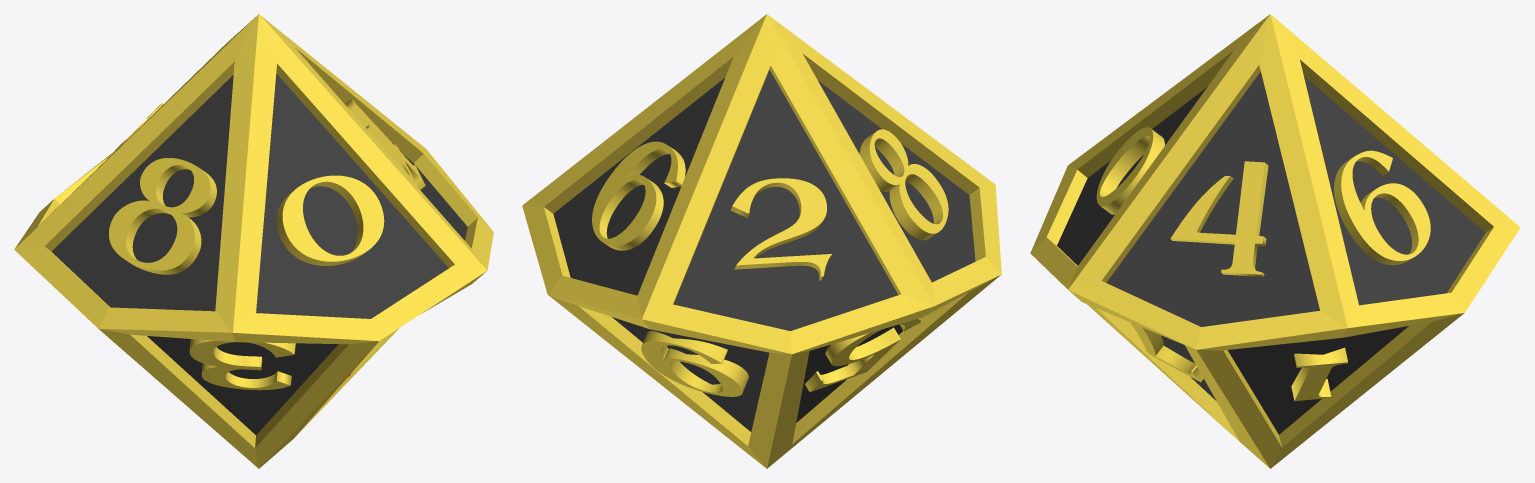
3 views of the same model, side by side, from view 1: azimuth 30°, elevation 25°; view 2: azimuth 150°, elevation 25°; view 3: azimuth 270°, elevation 25° (orthographic).
Parts seen in each view (by area): view 1: Icosphere, d10_face_10, d10_face_8, Text.030, d10_face_3, Text.027, Text.031, Text.026, d10_face_4; view 2: Icosphere, d10_face_2, d10_face_6, d10_face_8, Text.028, Text.030, Text.029, Text.033, d10_face_9, Text.032, d10_face_5; view 3: Icosphere, d10_face_4, d10_face_6, d10_face1, Text.028, Text.026, d10_face_10, Text.027, Text.034, Text.035.
Boxes of the visible parts, <box> form: Icosphere: <box>14,14,493,468</box>; d10_face_10: <box>256,73,448,318</box>; d10_face_8: <box>51,75,233,311</box>; Text.030: <box>109,158,216,274</box>; d10_face_3: <box>147,336,338,434</box>; Text.027: <box>276,175,384,265</box>; Text.031: <box>189,339,295,390</box>; Text.026: <box>345,99,425,190</box>; d10_face_4: <box>403,154,467,240</box>; Icosphere: <box>522,14,1001,468</box>; d10_face_2: <box>673,70,898,330</box>; d10_face_6: <box>553,78,724,295</box>; d10_face_8: <box>818,80,975,282</box>; Text.028: <box>592,141,685,250</box>; Text.030: <box>859,129,948,240</box>; Text.029: <box>730,178,832,280</box>; Text.033: <box>641,331,748,396</box>; d10_face_9: <box>612,317,769,431</box>; Text.032: <box>805,318,920,392</box>; d10_face_5: <box>796,324,903,422</box>; Icosphere: <box>1030,14,1520,468</box>; d10_face_4: <box>1106,71,1319,326</box>; d10_face_6: <box>1304,76,1485,305</box>; d10_face1: <box>1227,326,1408,434</box>; Text.028: <box>1334,150,1430,265</box>; Text.026: <box>1170,161,1268,276</box>; d10_face_10: <box>1057,87,1206,265</box>; Text.027: <box>1096,127,1164,214</box>; Text.034: <box>1291,347,1347,401</box>; Text.035: <box>1130,322,1203,382</box>.
Bounding box in the file's own units: 3.02 × 3.19 × 3.11.
